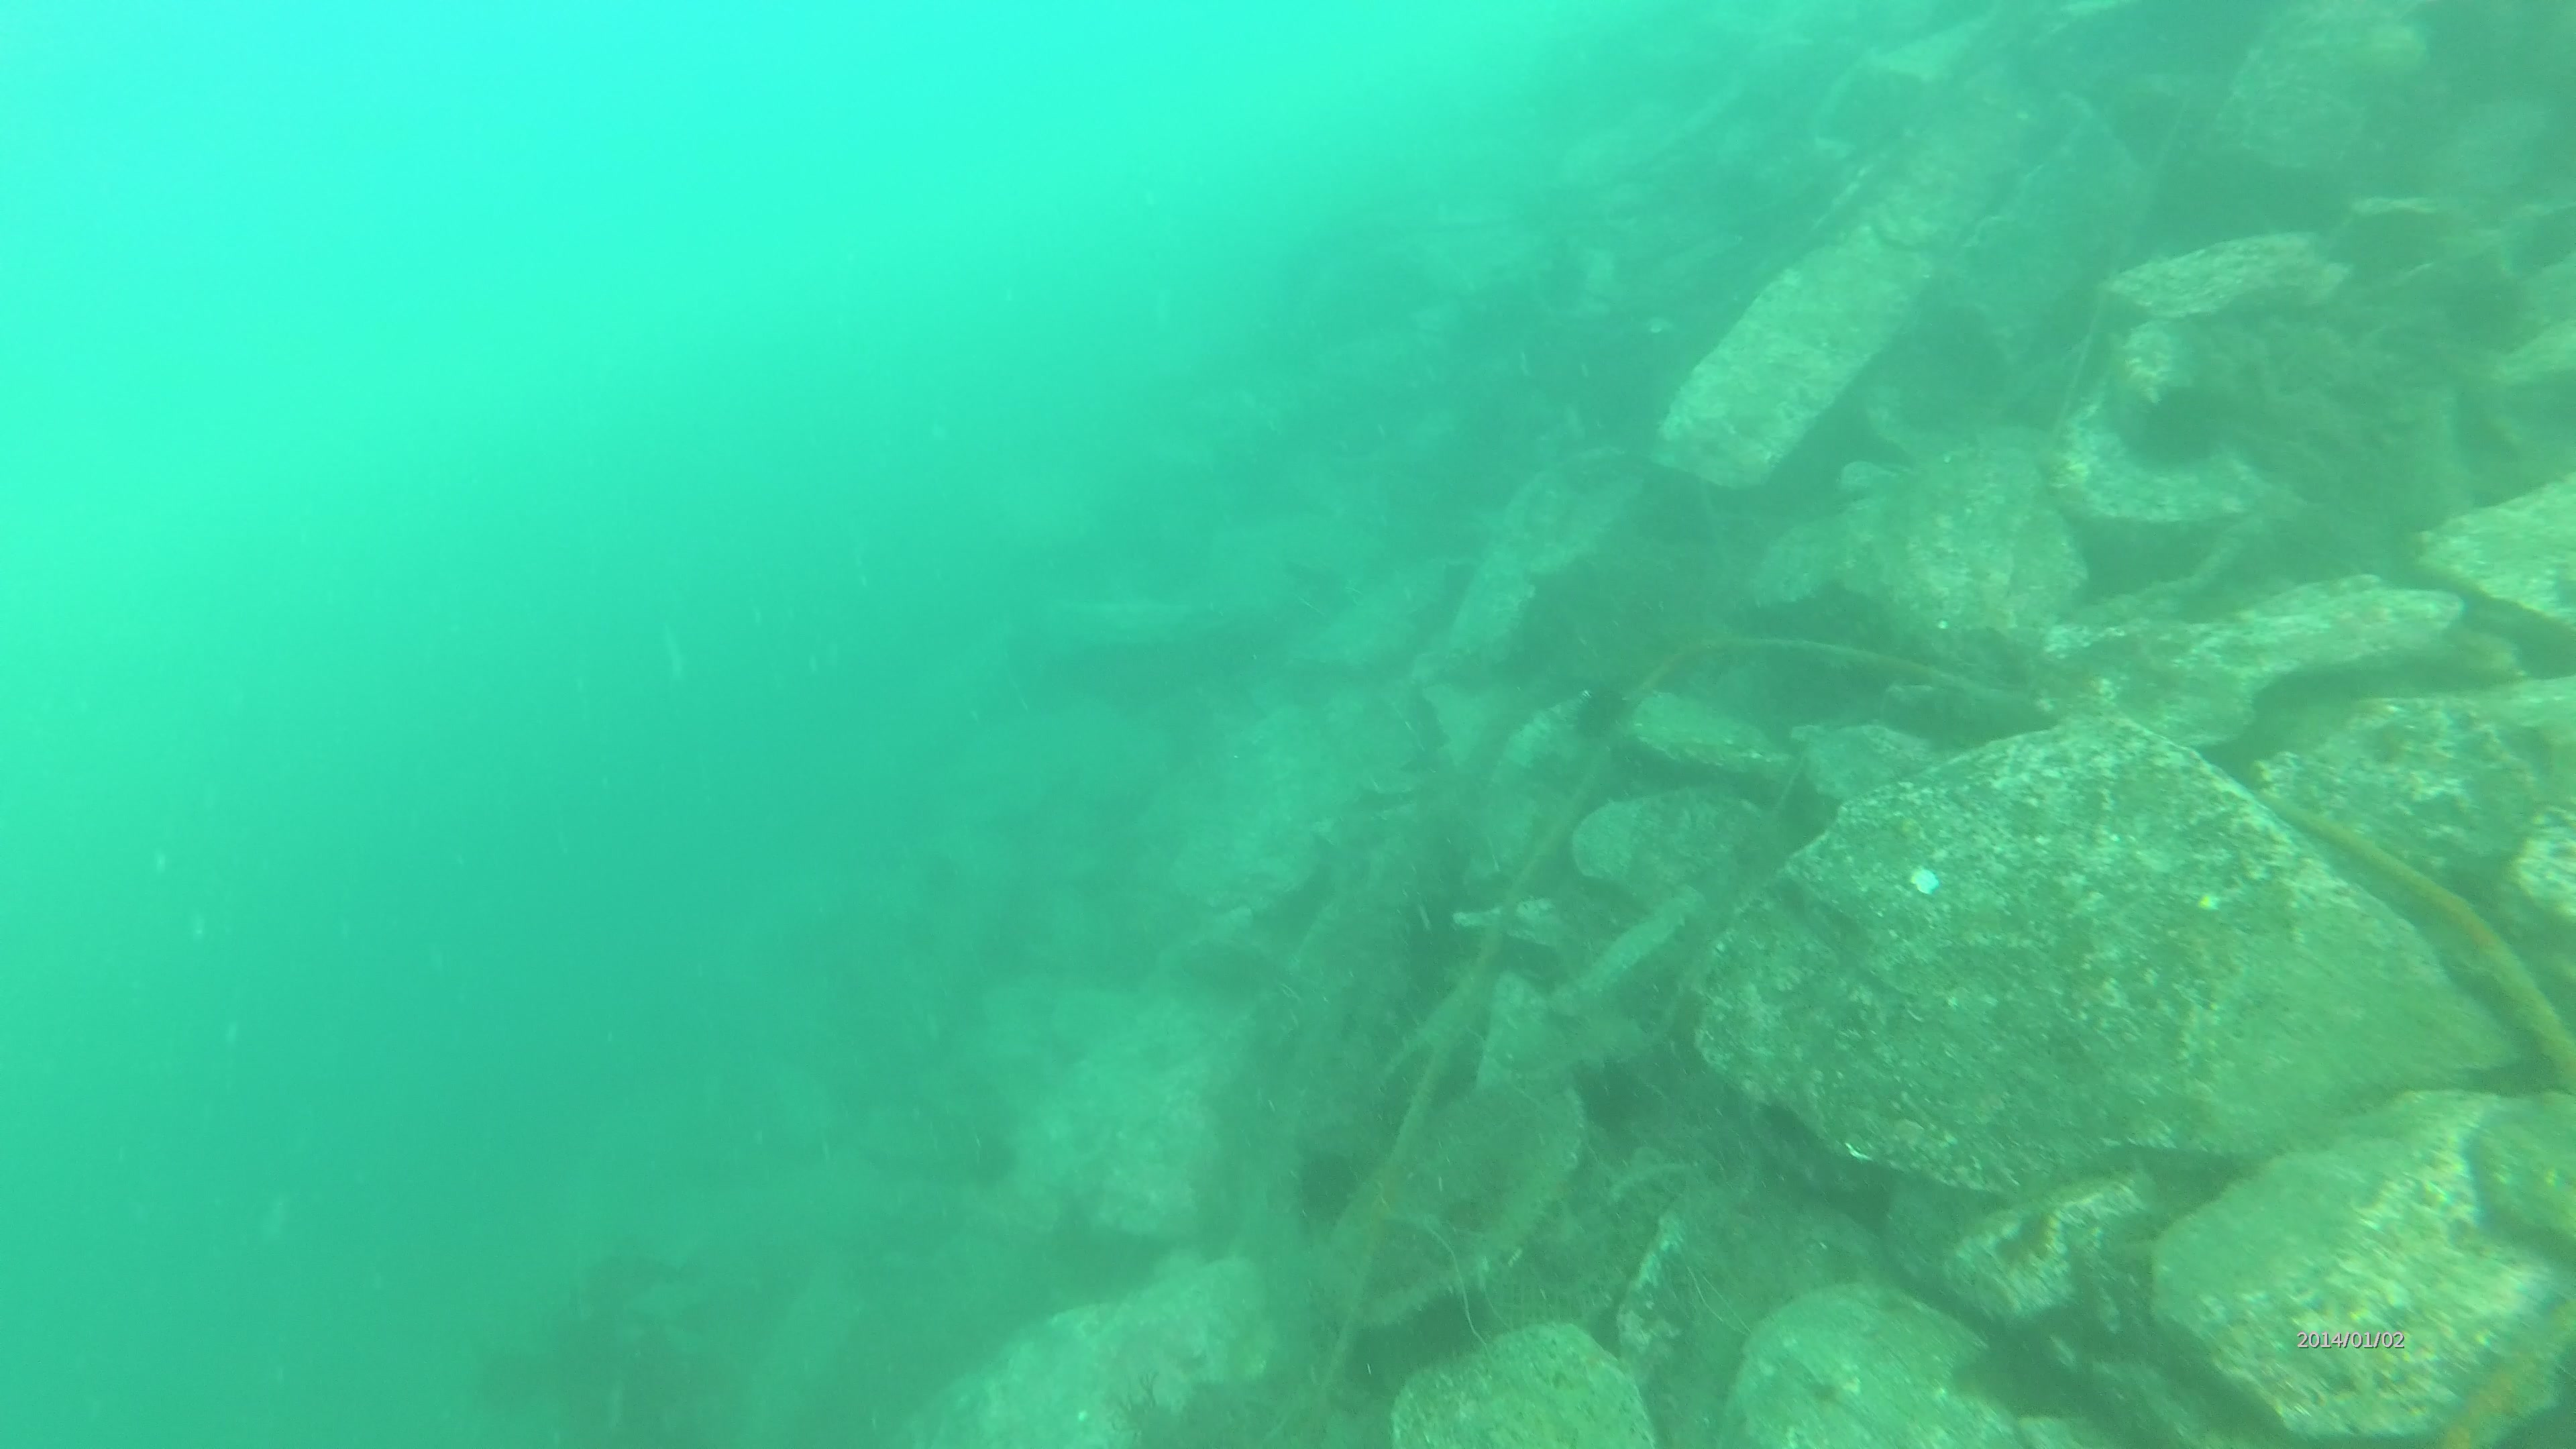echinus: (2121, 370, 2236, 471), (1284, 1148, 1373, 1224)
